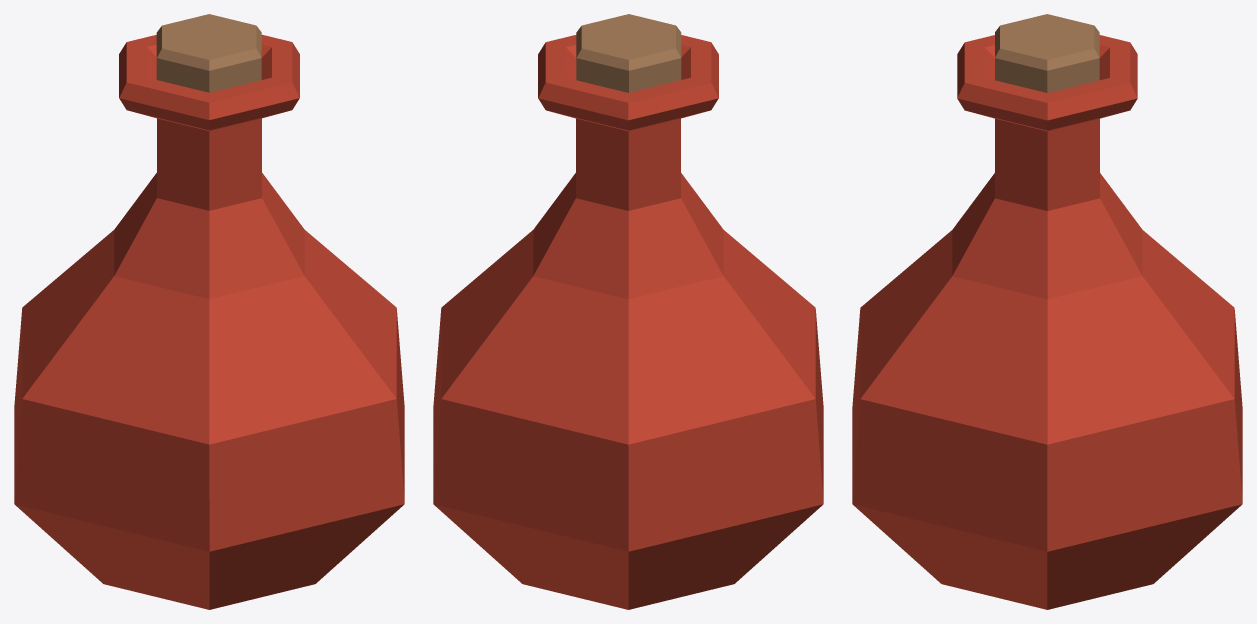
Rendered from Red_Potion_3.fbx.
3 renders of one model, left to right at view 1: azimuth 30°, elevation 25°; view 2: azimuth 150°, elevation 25°; view 3: azimuth 270°, elevation 25°, orthographic.
Parts seen in each view (by area): view 1: Red_Potion_3; view 2: Red_Potion_3; view 3: Red_Potion_3.
Boxes of the visible parts, <box> form: Red_Potion_3: <box>14,14,404,609</box>; Red_Potion_3: <box>433,14,823,609</box>; Red_Potion_3: <box>852,14,1242,609</box>.
Size of the model in its own units: 21.88 by 27.9 by 18.95.
